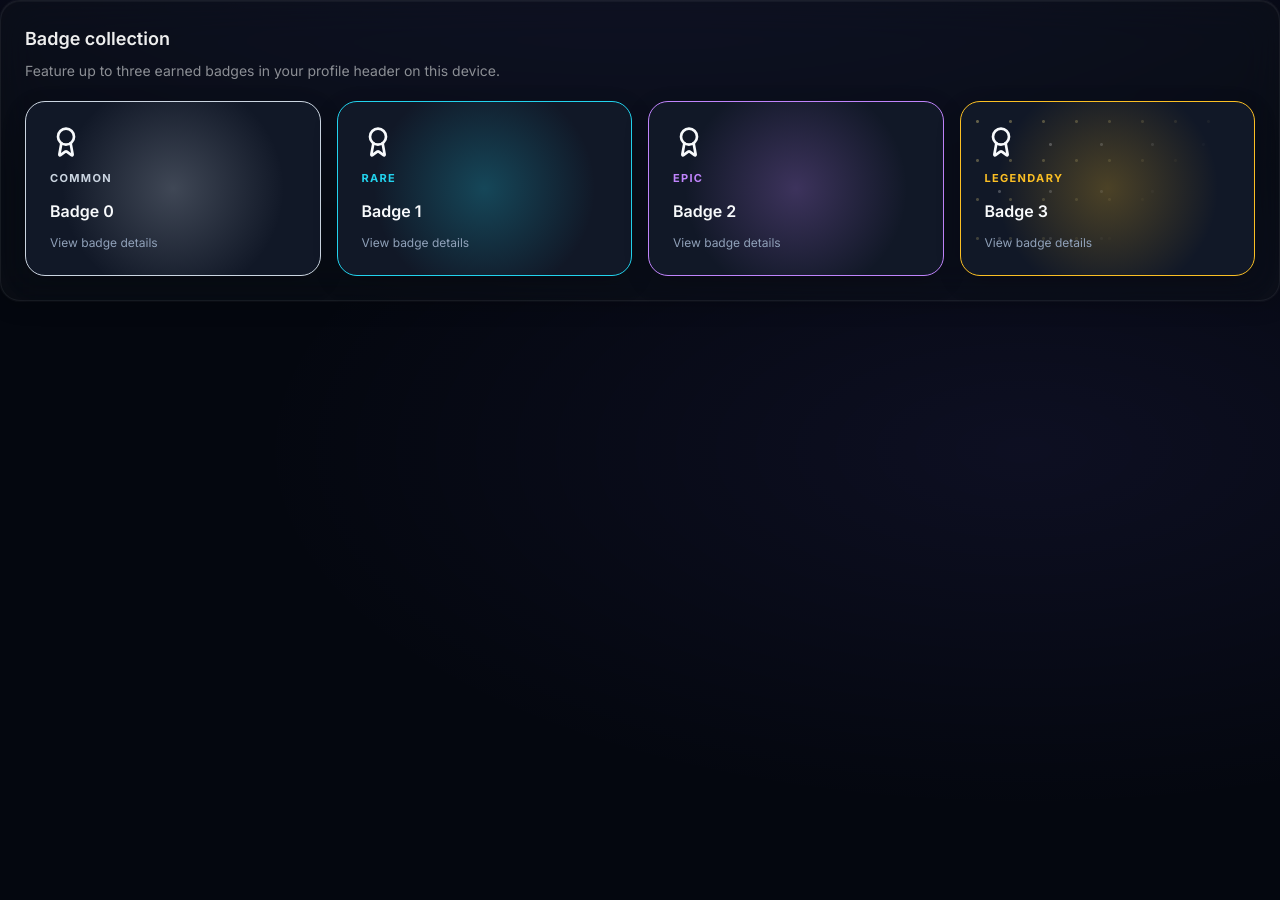
Test: badge collection interactions › reports unavailable storage without claiming a pin was saved
Click the button with aria-label "View Badge 0 badge". click: [173, 188]
box: x1=25 y1=101 x2=320 y2=276
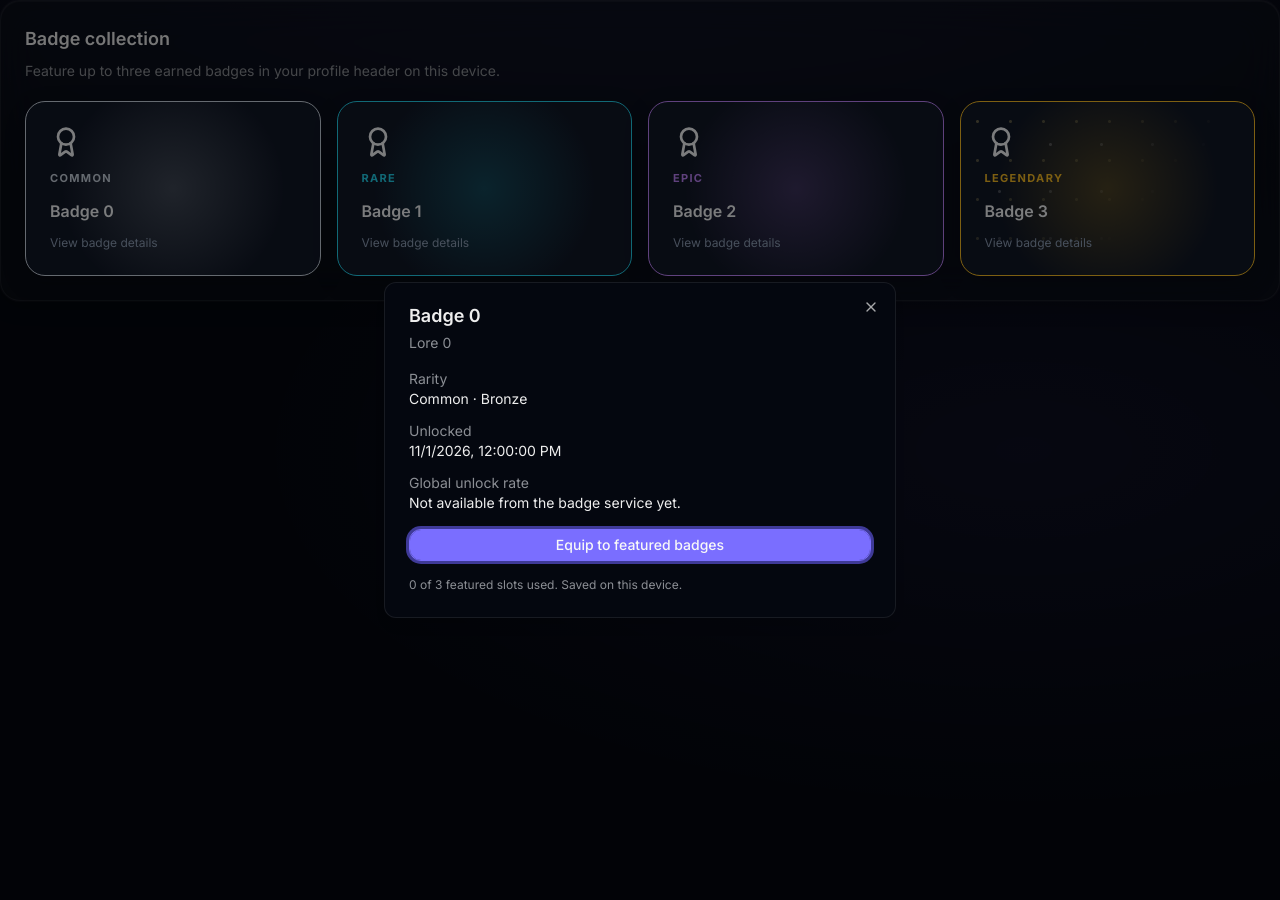
Click the button "Equip to featured badges". click: [640, 545]
box: x1=409 y1=529 x2=871 y2=561
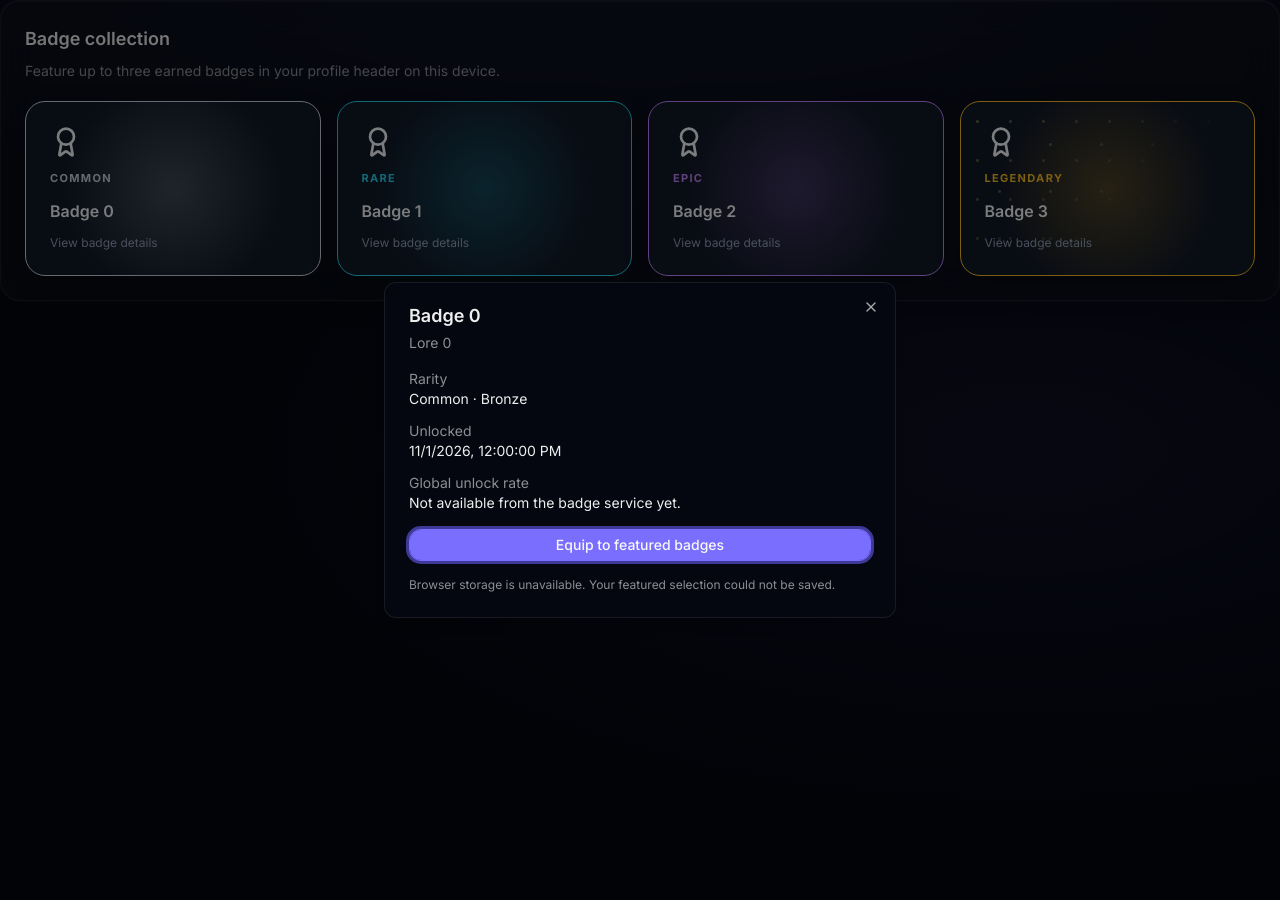
Expected: the text "Browser storage is unavailable. Your featured selection could not be saved." is shown, x1=409 y1=577 x2=871 y2=593
